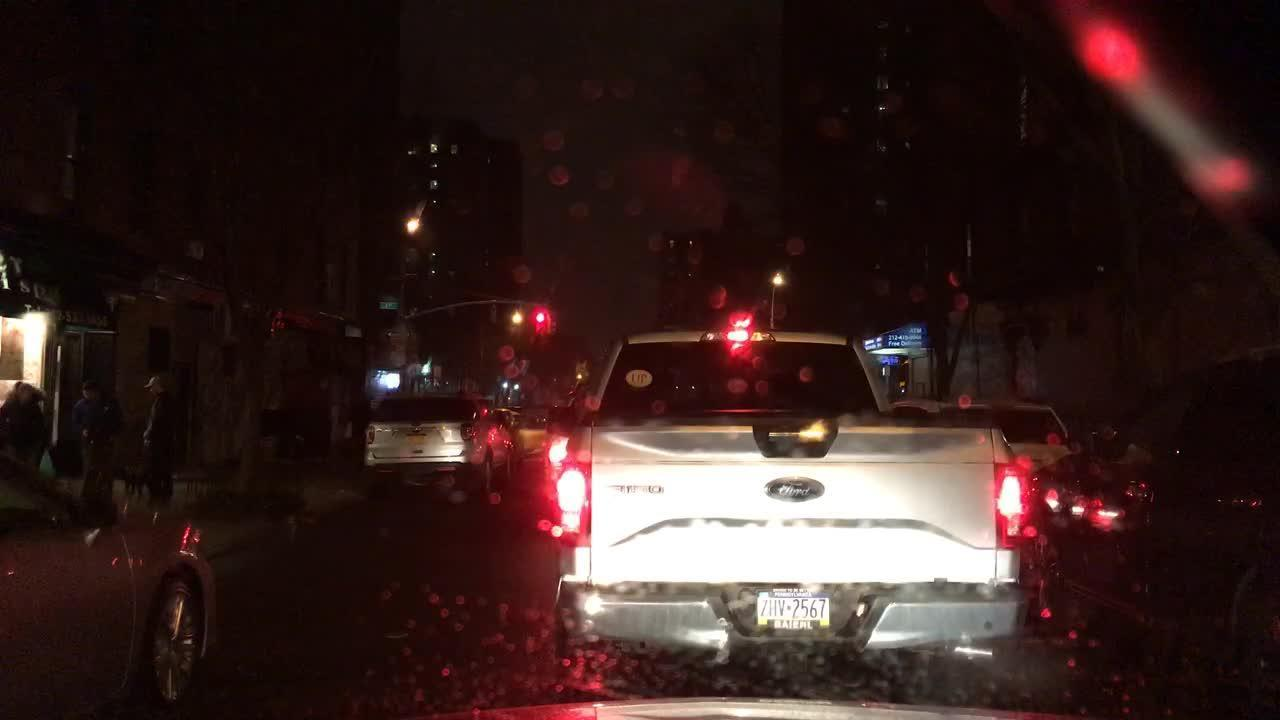ford: (753, 463, 834, 513)
